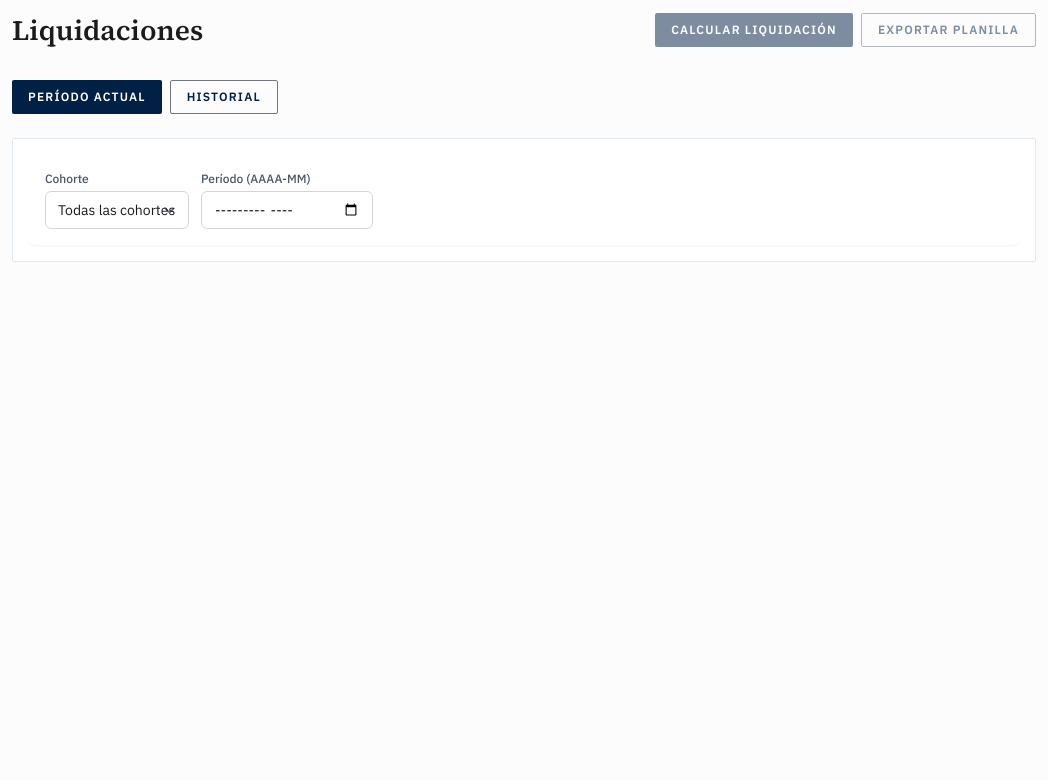
Test: LiquidacionesPage — Calcular liquidación › maneja 409 (período cerrado) mostrando mensaje no destructivo
The width and height of the screenshot is (1048, 780).
Select "Cohorte 2026" in the dropdown labelled "Cohorte" at (117, 210), box x1=45 y1=191 x2=189 y2=229
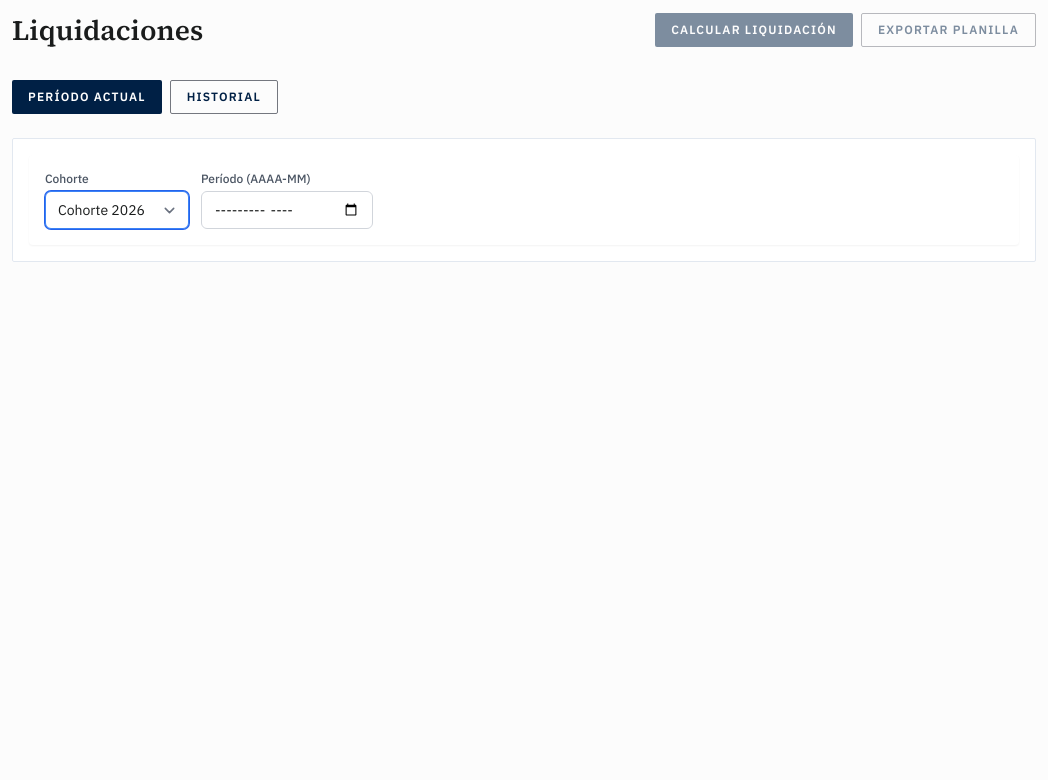
Type "2026-06" into the field labelled "Período (AAAA-MM)" at (287, 210), box x1=201 y1=191 x2=373 y2=229
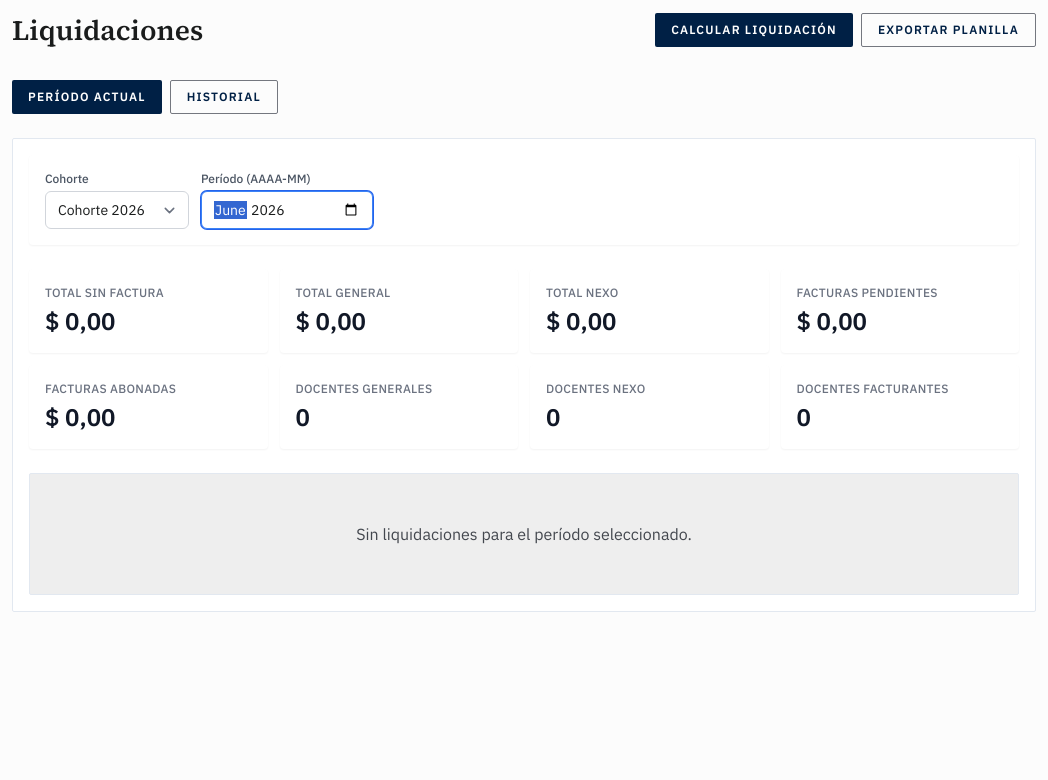
Click the button "Calcular liquidación" at (754, 30), box x1=655 y1=13 x2=853 y2=47
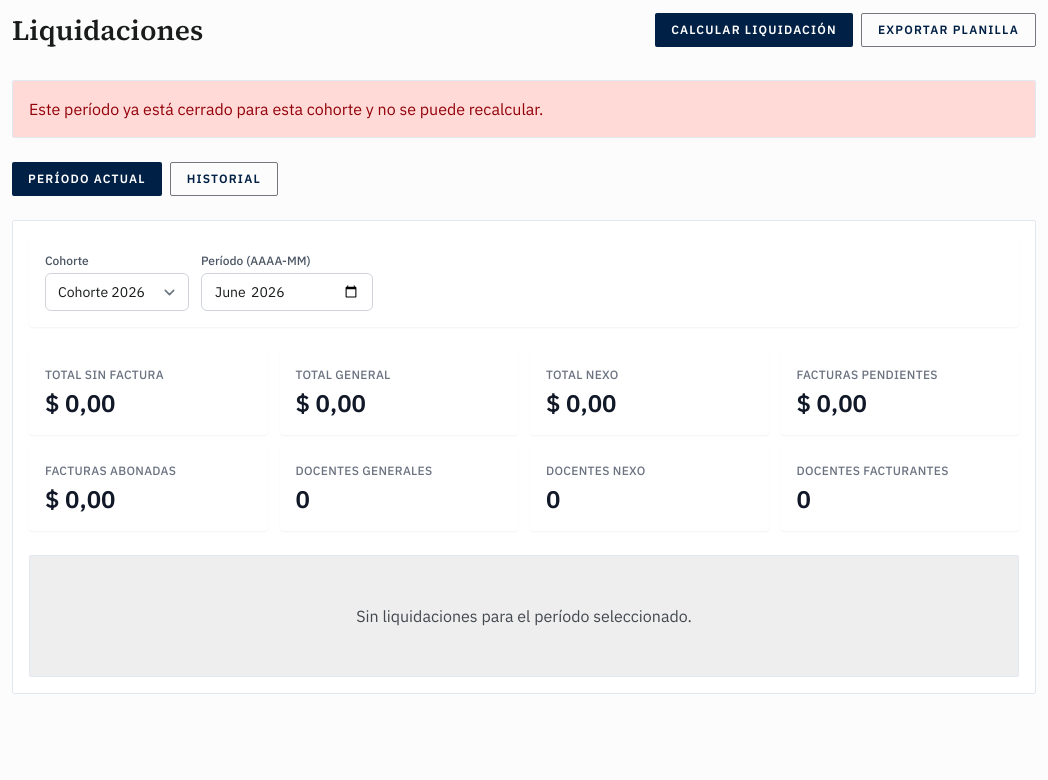
expect the text "ya está cerrado" is shown: met, box x1=29 y1=99 x2=543 y2=119
